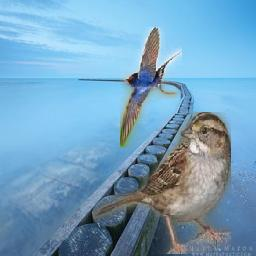Sparrow: (93, 112, 231, 254)
Swallow: (120, 28, 182, 149)
